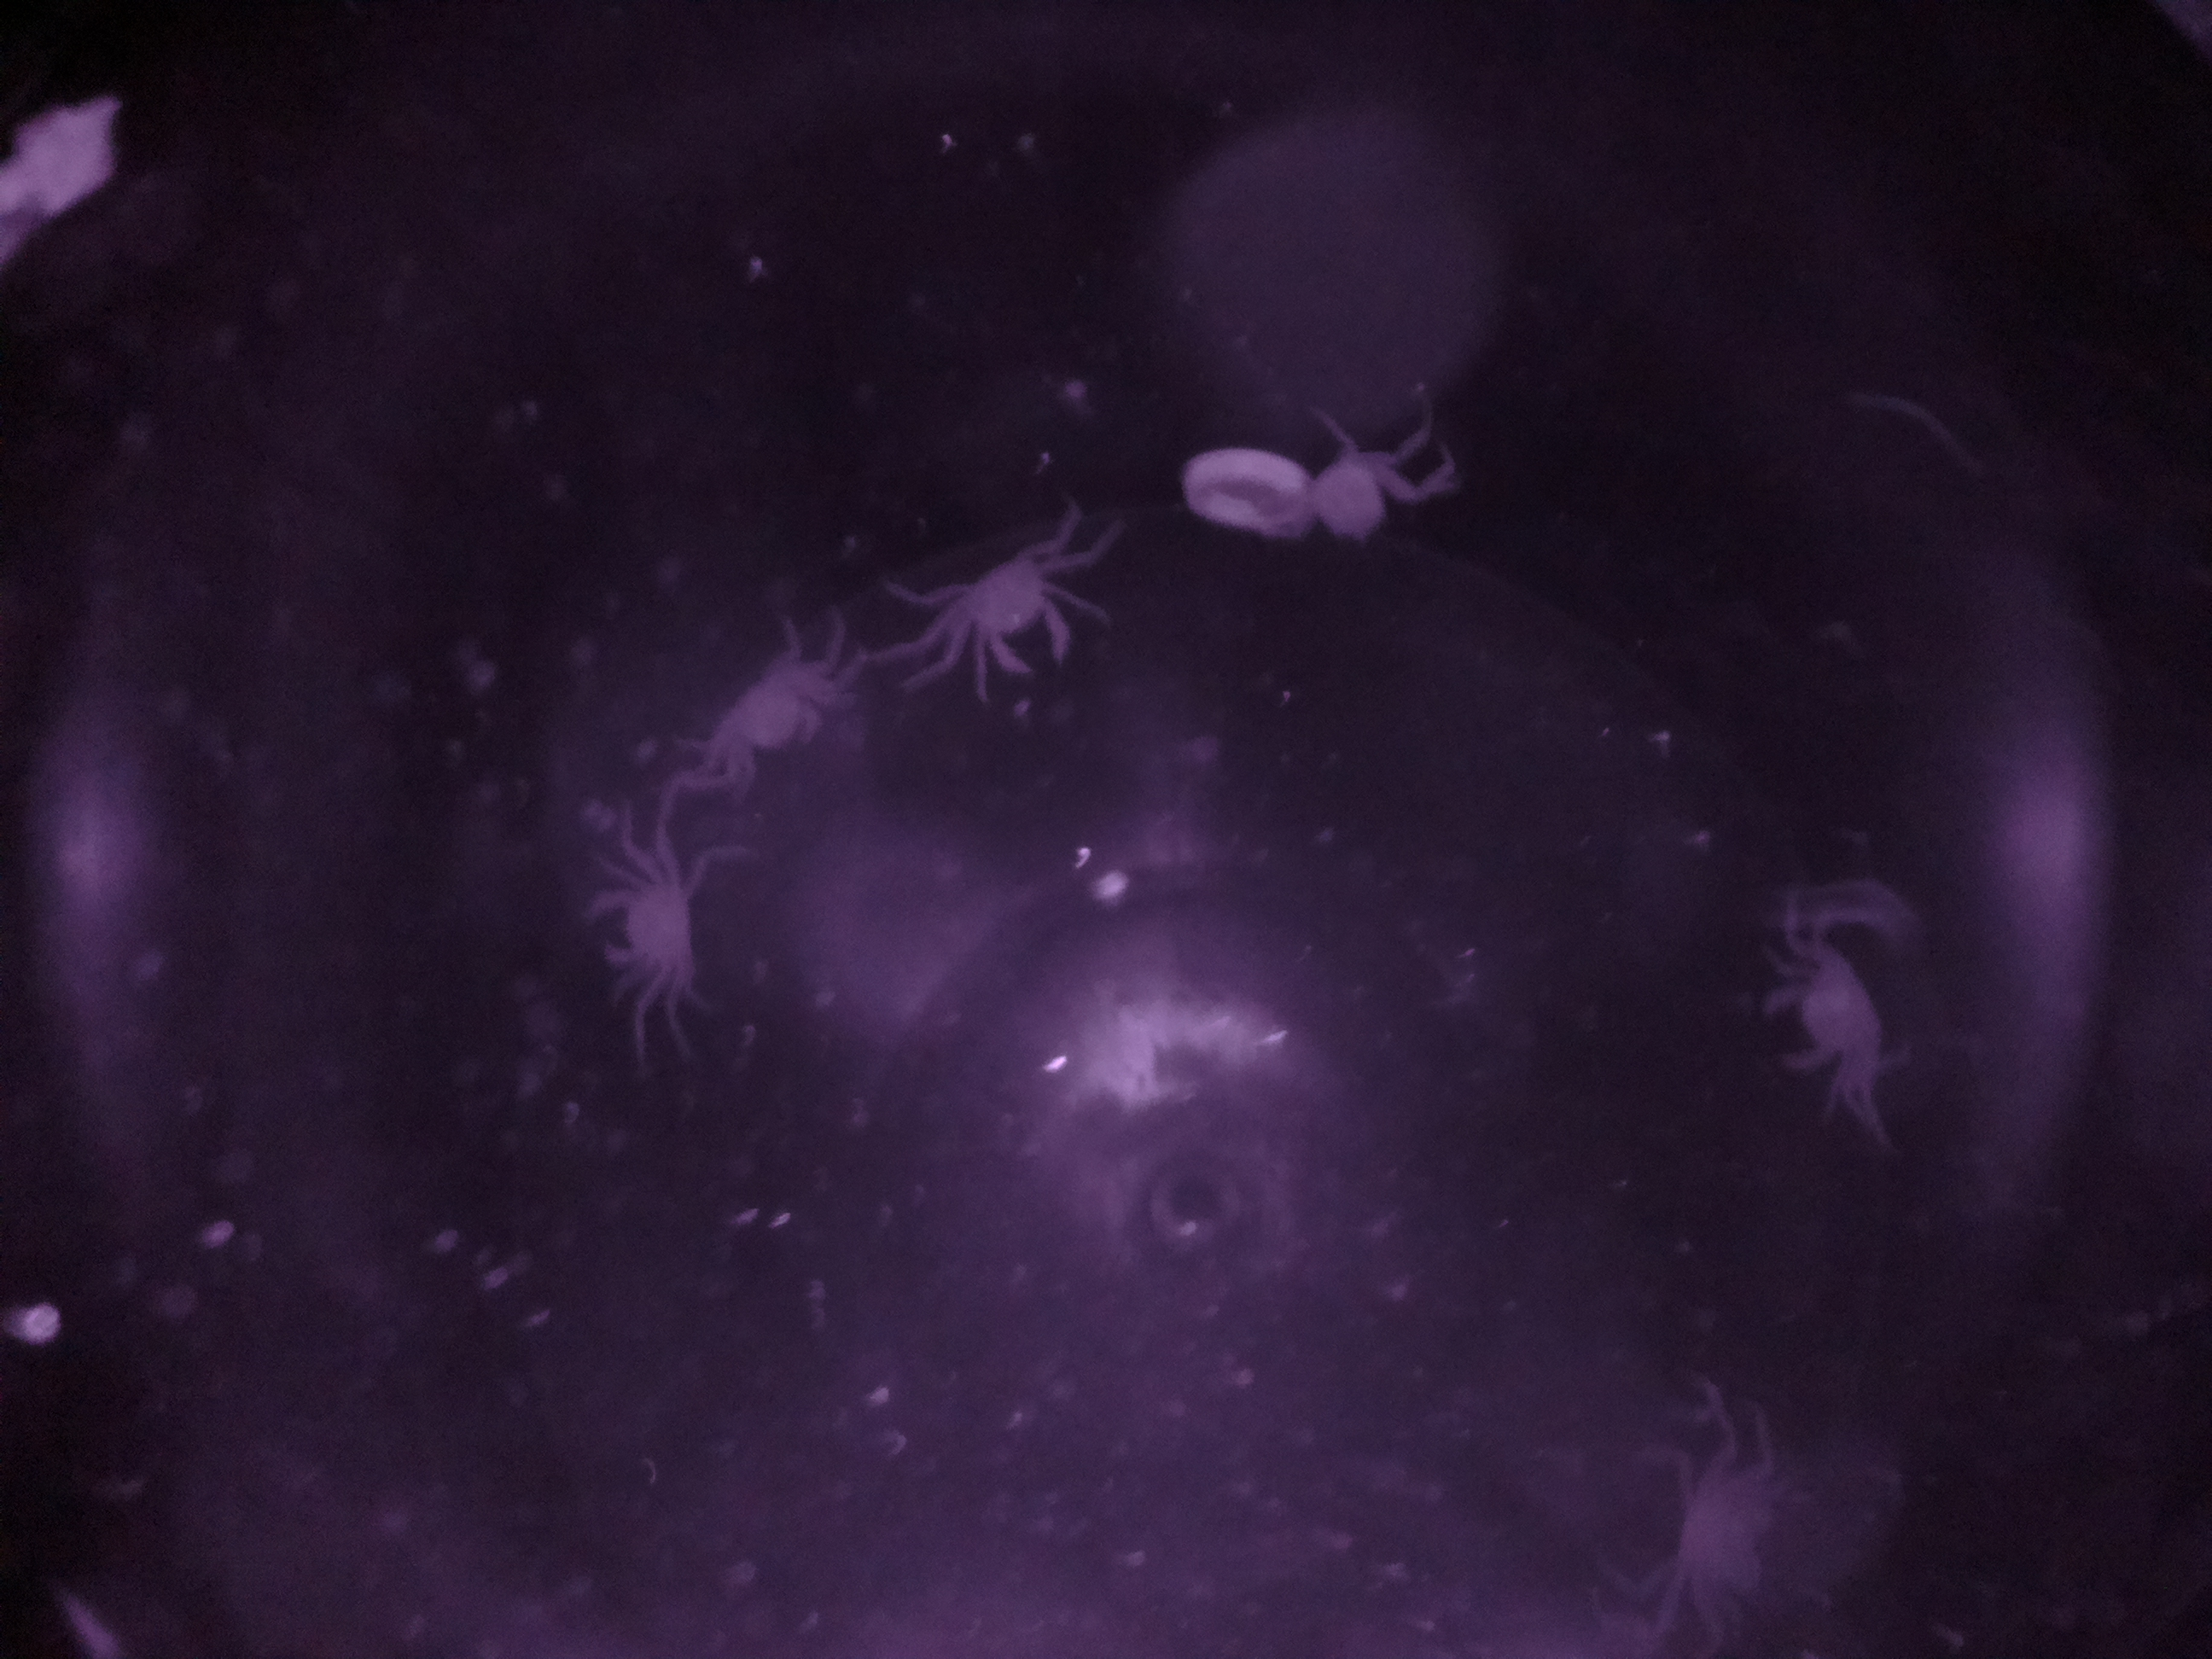Crab: (899, 518, 1103, 702), (552, 831, 737, 1014)
